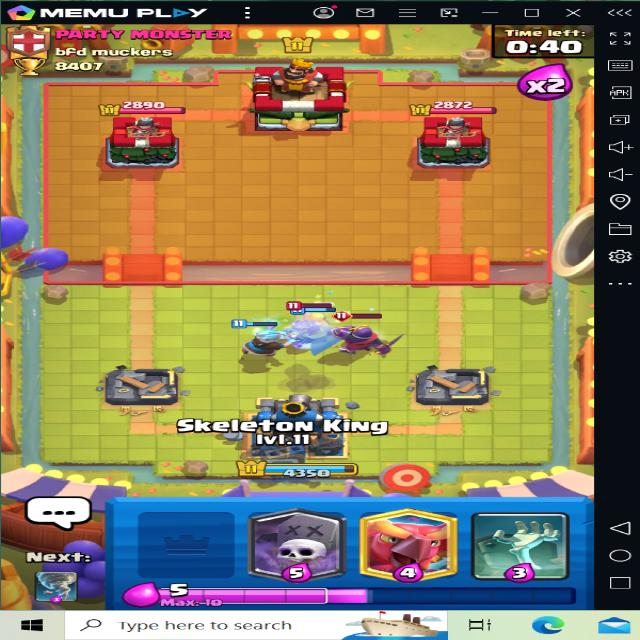EvoKnight: (333, 308, 403, 360)
Queen: (285, 314, 348, 358)
